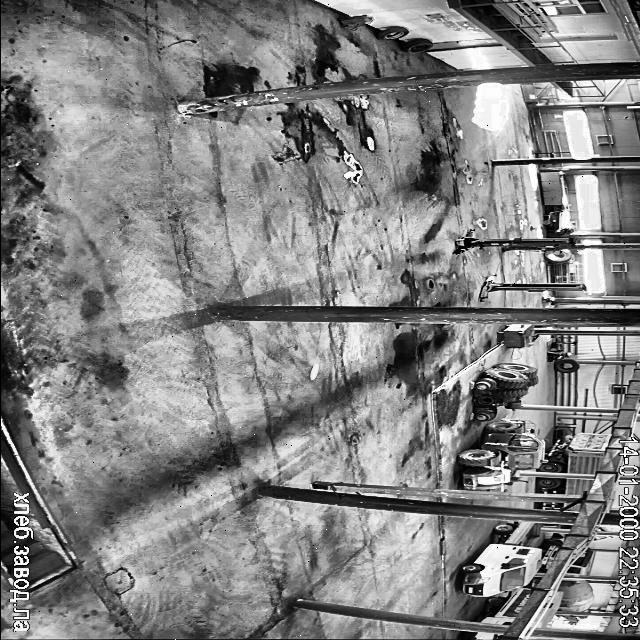class6: (458, 419, 544, 489), (474, 362, 538, 420)
class7: (461, 521, 541, 596), (540, 432, 612, 473), (482, 588, 532, 624), (558, 580, 594, 610), (539, 477, 594, 495), (538, 592, 560, 627), (541, 537, 563, 571), (567, 548, 595, 574), (542, 498, 580, 511), (462, 632, 500, 640), (564, 616, 583, 623)
tractor: (340, 15, 372, 30)
truck: (454, 230, 574, 253), (479, 275, 586, 300)
